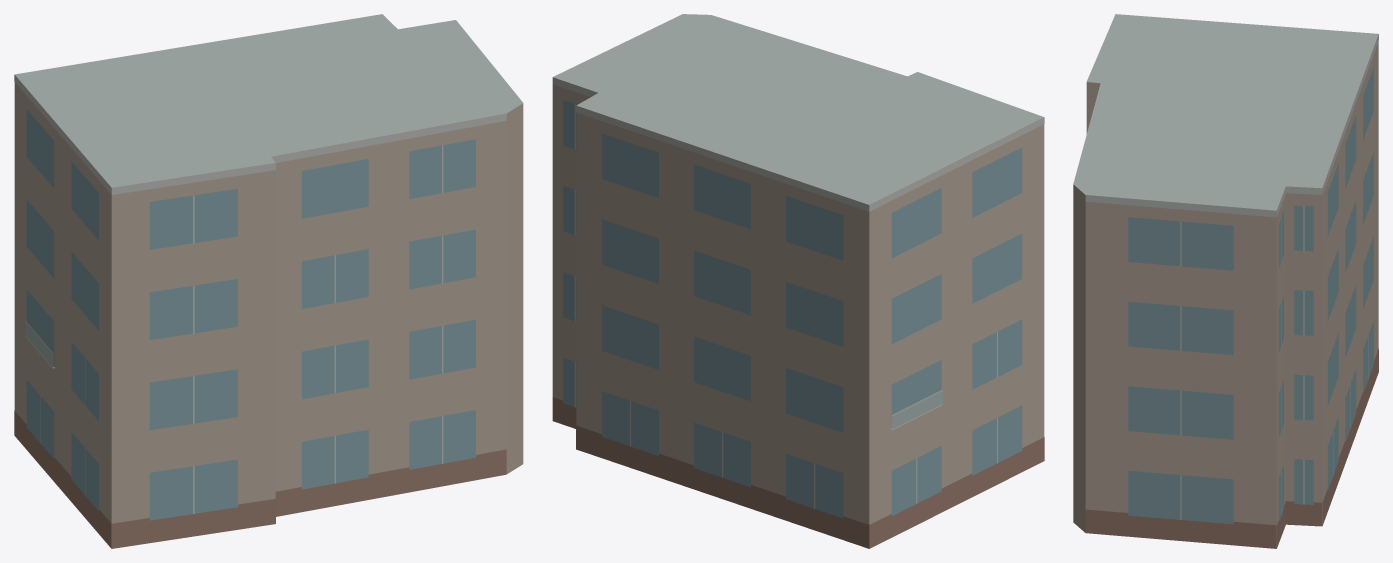
File: survey-upis-32925163.glb
3 views of the same model, side by side, from view 1: azimuth 30°, elevation 25°; view 2: azimuth 150°, elevation 25°; view 3: azimuth 270°, elevation 25° (orthographic). The views are drawn at different scales.
Parts seen in each view (by area): view 1: survey-upis-32925163.tmp; view 2: survey-upis-32925163.tmp; view 3: survey-upis-32925163.tmp.
Part boxes in pixels (x1=…): survey-upis-32925163.tmp: x1=14, y1=14, x2=523, y2=548; survey-upis-32925163.tmp: x1=552, y1=14, x2=1044, y2=548; survey-upis-32925163.tmp: x1=1073, y1=14, x2=1378, y2=548.
Size of the model in its own units: 15.23 by 12.2 by 10.
